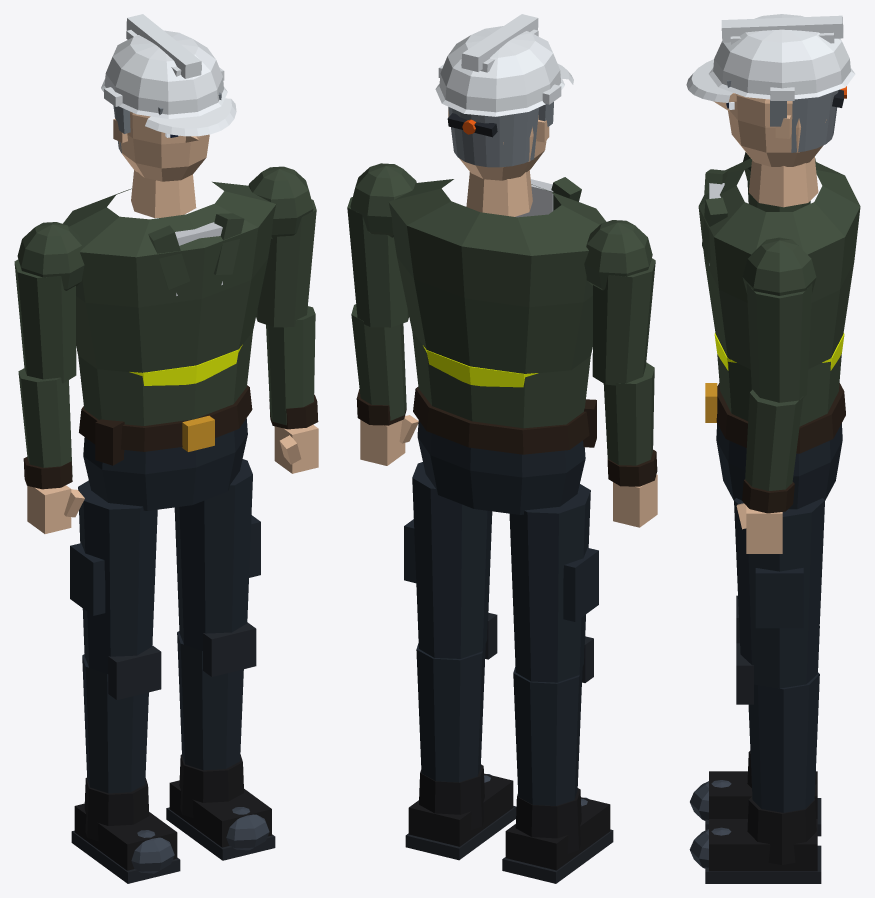
The model's file is boardop_rick_rig.glb.
3 views of the same model, side by side, from view 1: azimuth 30°, elevation 25°; view 2: azimuth 150°, elevation 25°; view 3: azimuth 270°, elevation 25° (orthographic). The views are drawn at different scales.
Visible parts, largest first — view 1: Torso_Jacket_Male, Leg_Upper_R, Leg_Upper_L, Pelvis_Hips_Male, HardHat_Contoured_Shell, Leg_Lower_L, Leg_Lower_R, Arm_Upper_L, Arm_Upper_R, Arm_Lower_R, Arm_Lower_L, Head_Cranium_Base (+28 smaller); view 2: Torso_Jacket_Male, Leg_Upper_R, Leg_Upper_L, Pelvis_Hips_Male, Leg_Lower_R, Leg_Lower_L, HardHat_Contoured_Shell, Arm_Upper_L, Utility_Belt_Strap, Arm_Upper_R, Arm_Lower_R, Arm_Lower_L (+20 smaller); view 3: Torso_Jacket_Male, Leg_Upper_R, Leg_Lower_R, HardHat_Contoured_Shell, Arm_Upper_R, Arm_Lower_R, Pelvis_Hips_Male, Boot_Vamp_R, Head_Cranium_Base, Shoulder_Cap_R, Cargo_Pocket_R, Boot_Ankle_Shaft_R (+18 smaller).
Part boxes in pixels (x1,y1,x2,y2): Torso_Jacket_Male: [63, 181, 276, 425]; Leg_Upper_R: [174, 459, 252, 650]; Leg_Upper_L: [78, 480, 157, 673]; Pelvis_Hips_Male: [83, 418, 247, 510]; HardHat_Contoured_Shell: [101, 30, 227, 118]; Leg_Lower_L: [82, 654, 148, 793]; Leg_Lower_R: [177, 631, 243, 770]; Arm_Upper_L: [14, 259, 76, 383]; Arm_Upper_R: [256, 199, 316, 327]; Arm_Lower_R: [266, 306, 315, 425]; Arm_Lower_L: [18, 368, 72, 476]; Head_Cranium_Base: [119, 111, 209, 181]; Torso_Jacket_Male: [388, 179, 606, 428]; Leg_Upper_R: [412, 462, 492, 658]; Leg_Upper_L: [509, 484, 590, 682]; Pelvis_Hips_Male: [417, 420, 585, 514]; Leg_Lower_R: [416, 643, 485, 782]; Leg_Lower_L: [513, 666, 582, 805]; HardHat_Contoured_Shell: [435, 26, 564, 116]; Arm_Upper_L: [592, 258, 655, 385]; Utility_Belt_Strap: [413, 387, 589, 454]; Arm_Upper_R: [347, 197, 409, 327]; Arm_Lower_R: [351, 304, 406, 420]; Arm_Lower_L: [603, 362, 654, 465]; Torso_Jacket_Male: [698, 158, 860, 426]; Leg_Upper_R: [734, 498, 824, 688]; Leg_Lower_R: [748, 672, 819, 812]; HardHat_Contoured_Shell: [709, 14, 855, 99]; Arm_Upper_R: [746, 283, 812, 402]; Arm_Lower_R: [745, 389, 803, 490]; Pelvis_Hips_Male: [716, 423, 842, 509]; Boot_Vamp_R: [709, 819, 817, 871]; Head_Cranium_Base: [728, 94, 826, 166]; Shoulder_Cap_R: [742, 237, 816, 295]; Cargo_Pocket_R: [755, 568, 803, 628]; Boot_Ankle_Shaft_R: [747, 796, 816, 864].
Bounding box in the file's own units: 0.6985 × 1.81 × 0.3449.
